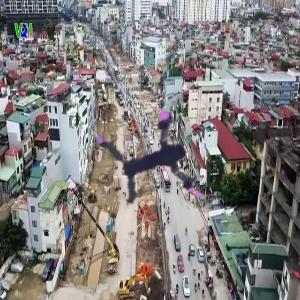drone: (103, 94, 228, 219)
